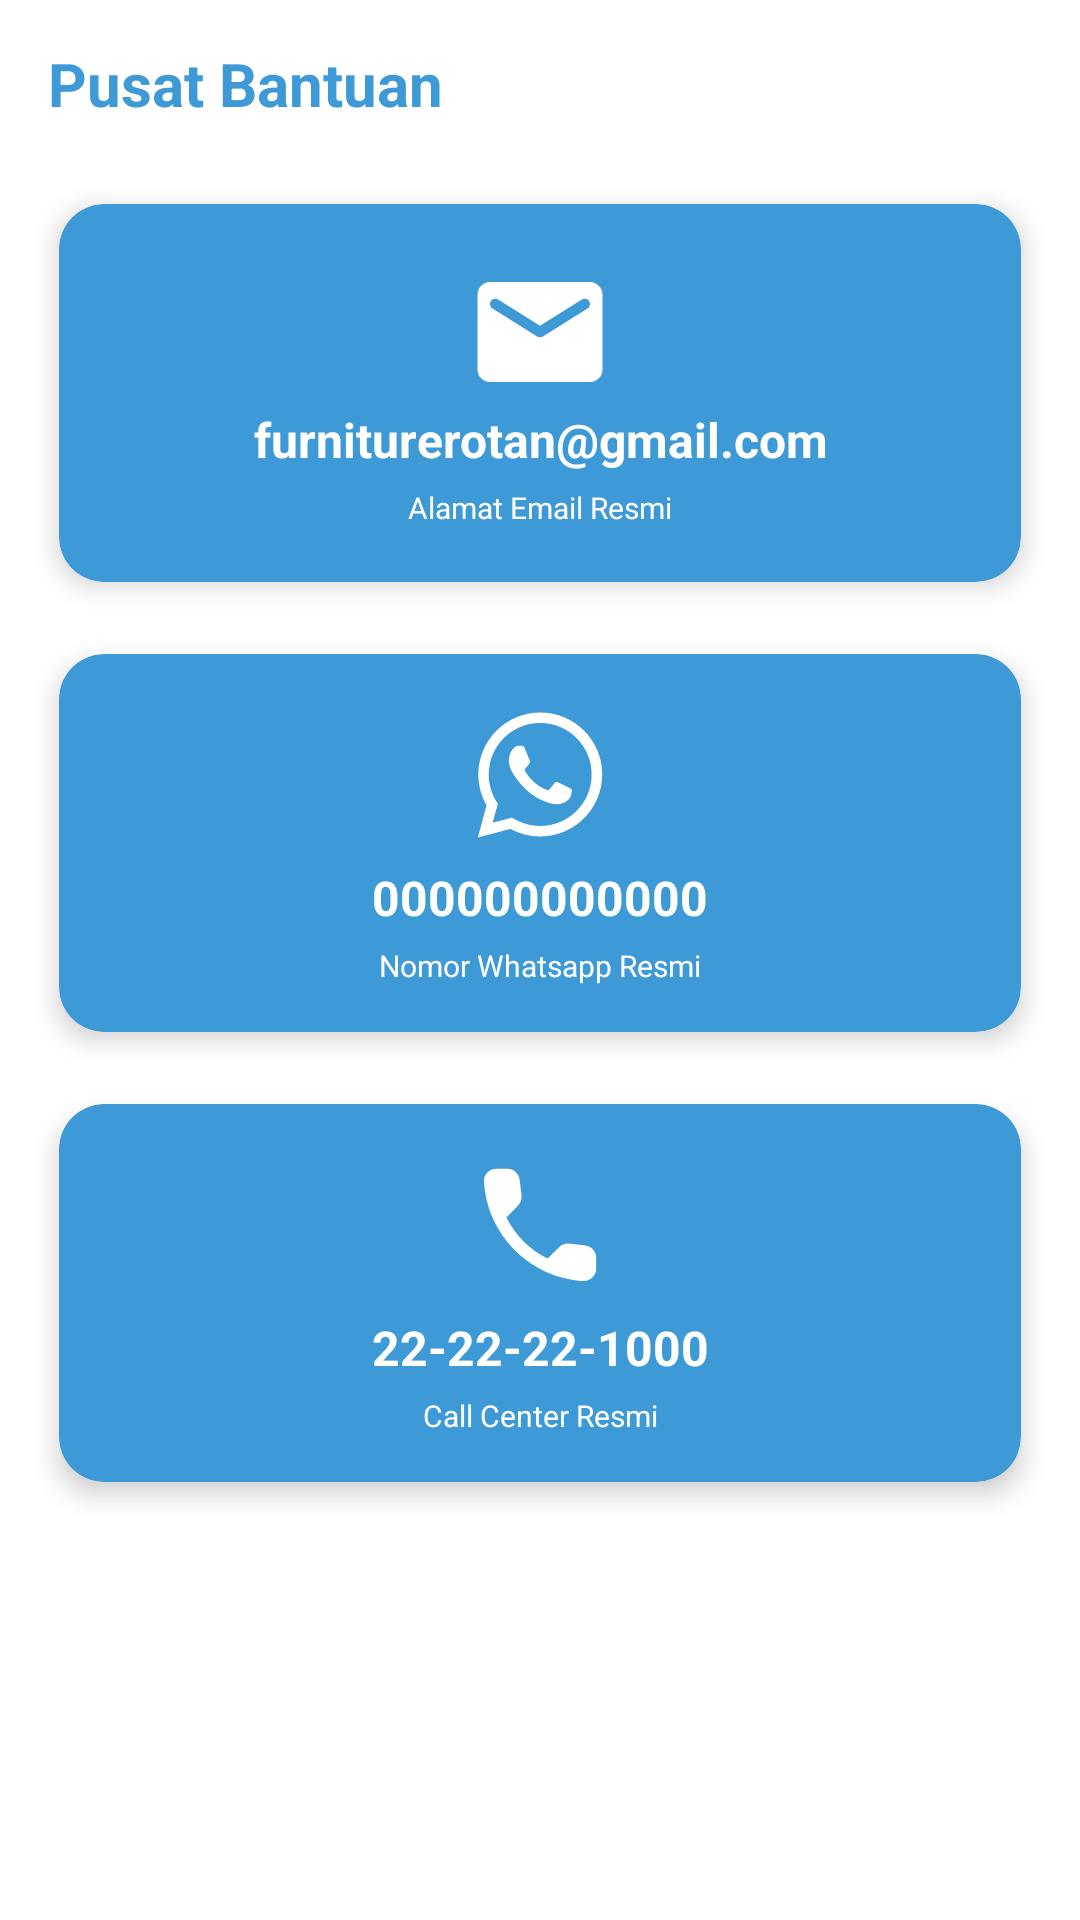

Point at icon controls on the screen. Image size 1080x1920, points as [x,y].
phone: [540,1224]
